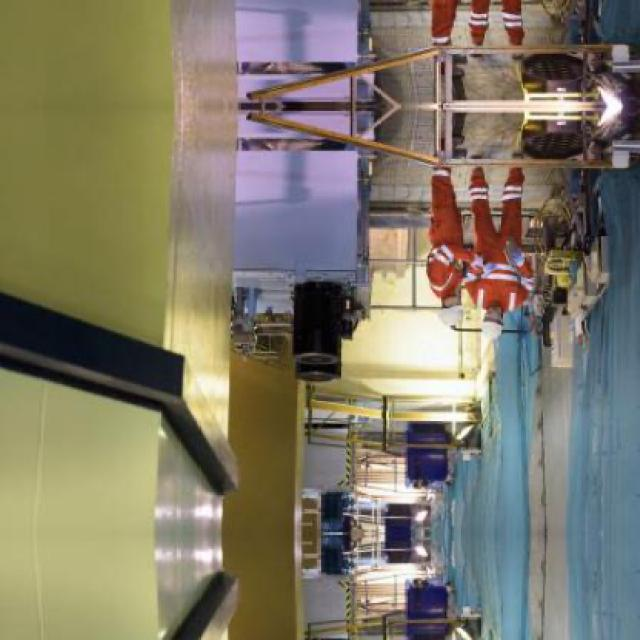con casco: (470, 293, 531, 352), (420, 271, 478, 327)
